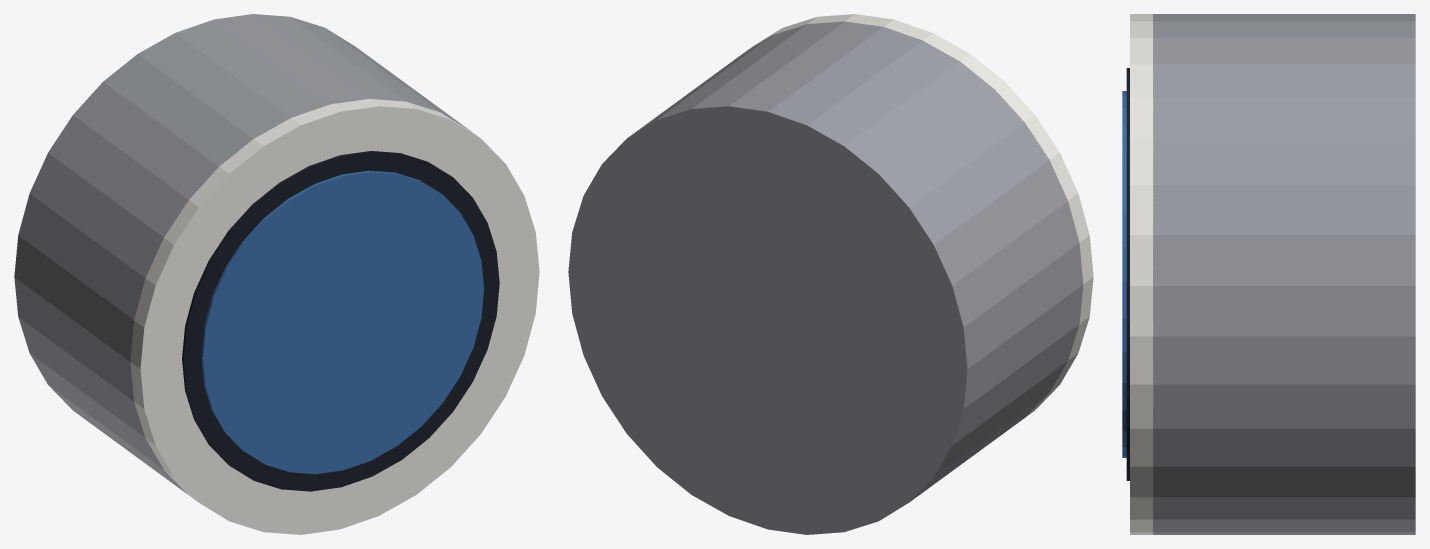
Rendered from device.canary-display-watch.glb.
The picture shows the model from 3 angles, left to right: view 1: azimuth 30°, elevation 25°; view 2: azimuth 150°, elevation 25°; view 3: azimuth 270°, elevation 25°; orthographic projection. The views are drawn at different scales.
Size of the model in its own units: 0.0505 by 0.0505 by 0.0284.
